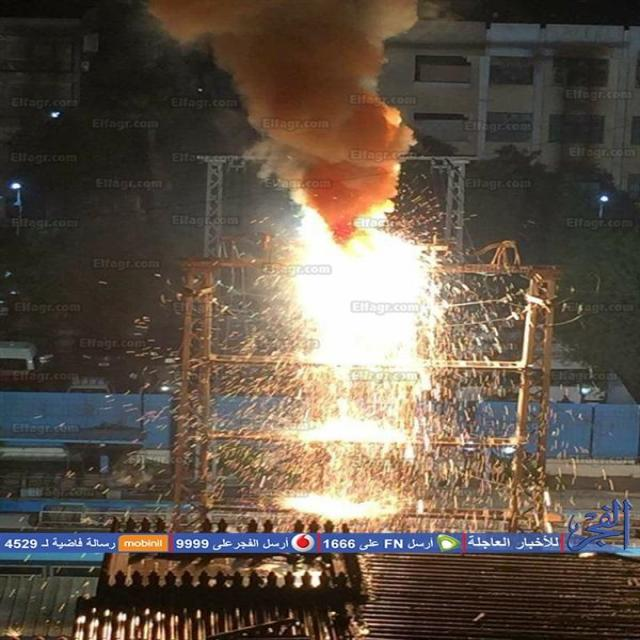Fire: (278, 190, 459, 530)
